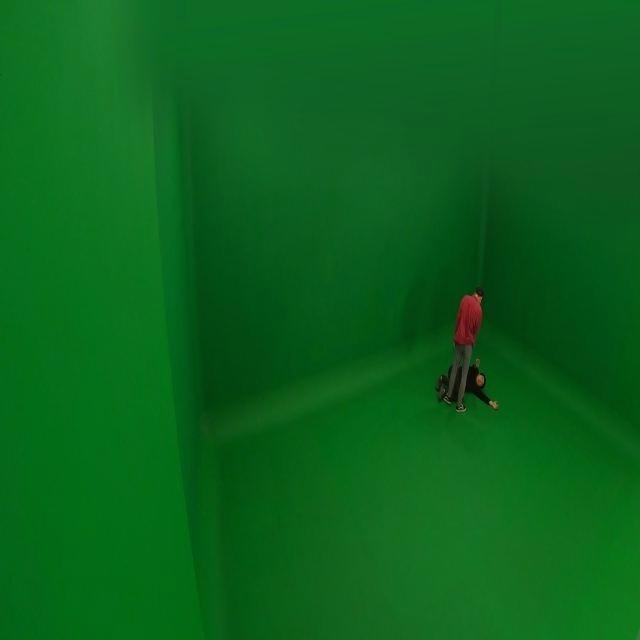fight: (437, 283, 497, 412)
